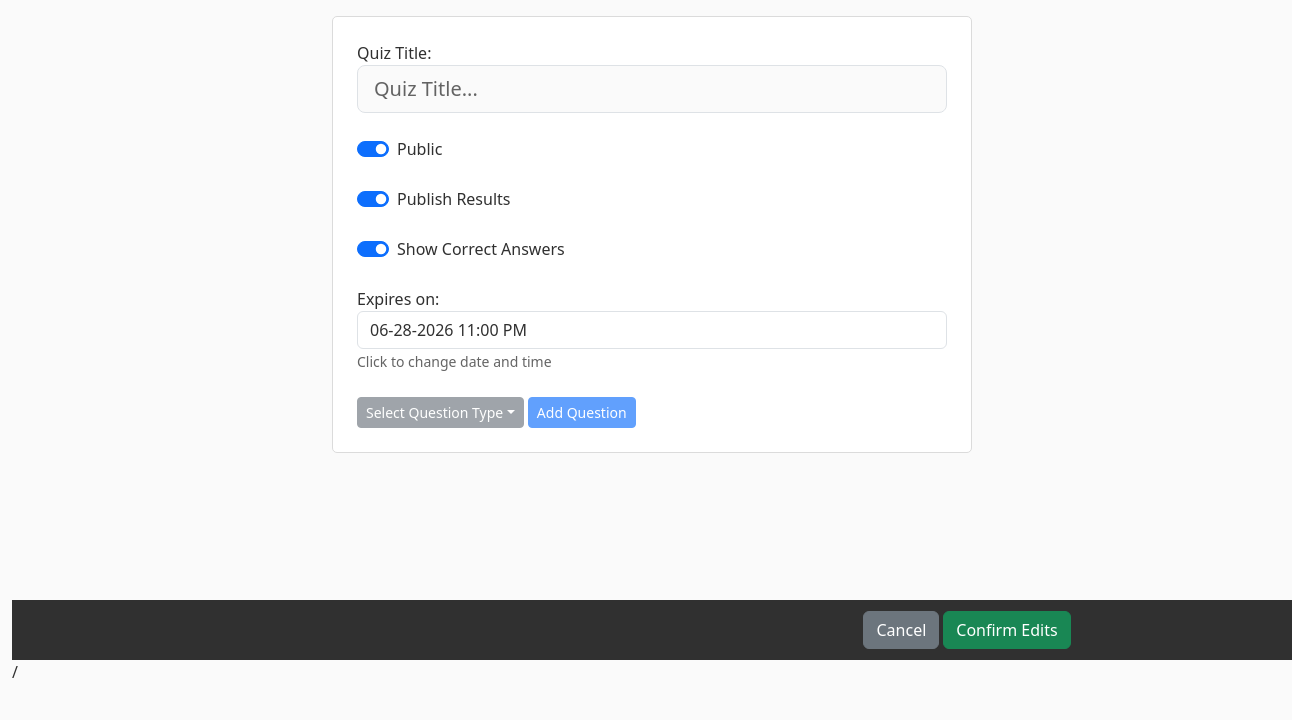
QuizEditor › shows validation errors if the submission failed
Click the button "Confirm Edits".
click(1007, 630)  # box [943,611,1071,649]
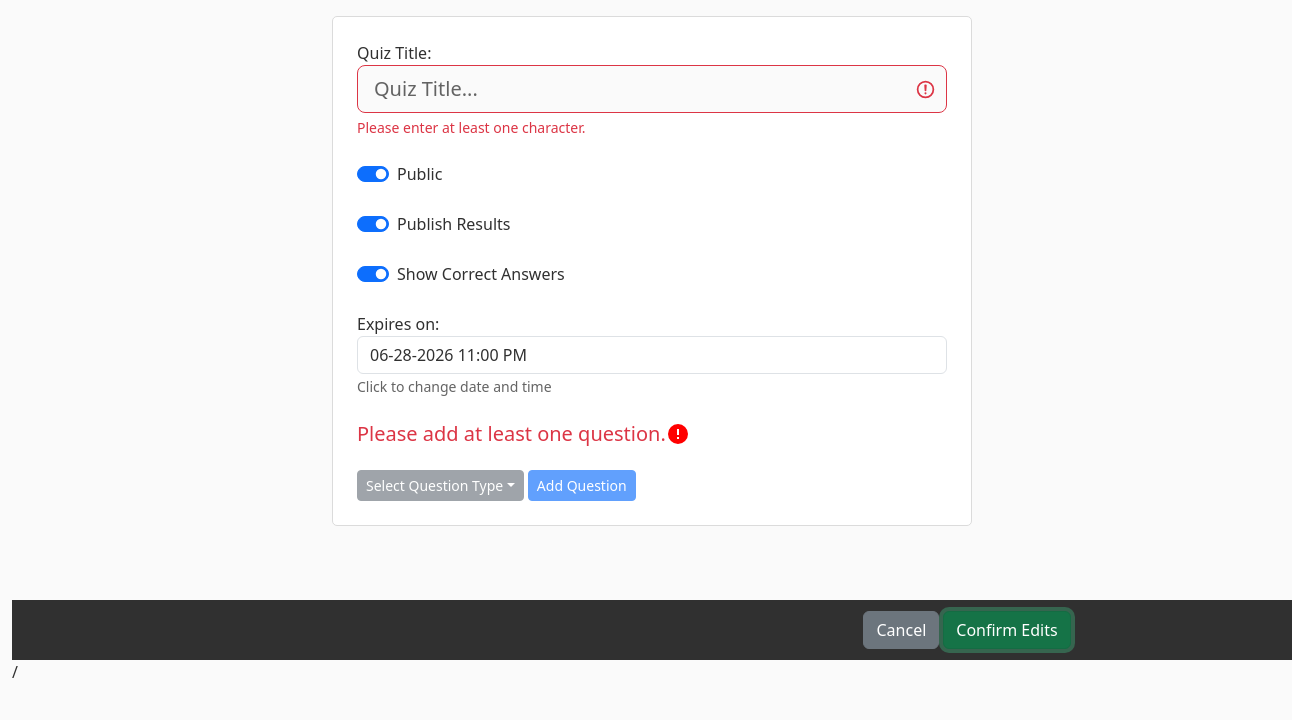
Expected: the text "Please enter at least one character." is shown, [357,118,586,137]
